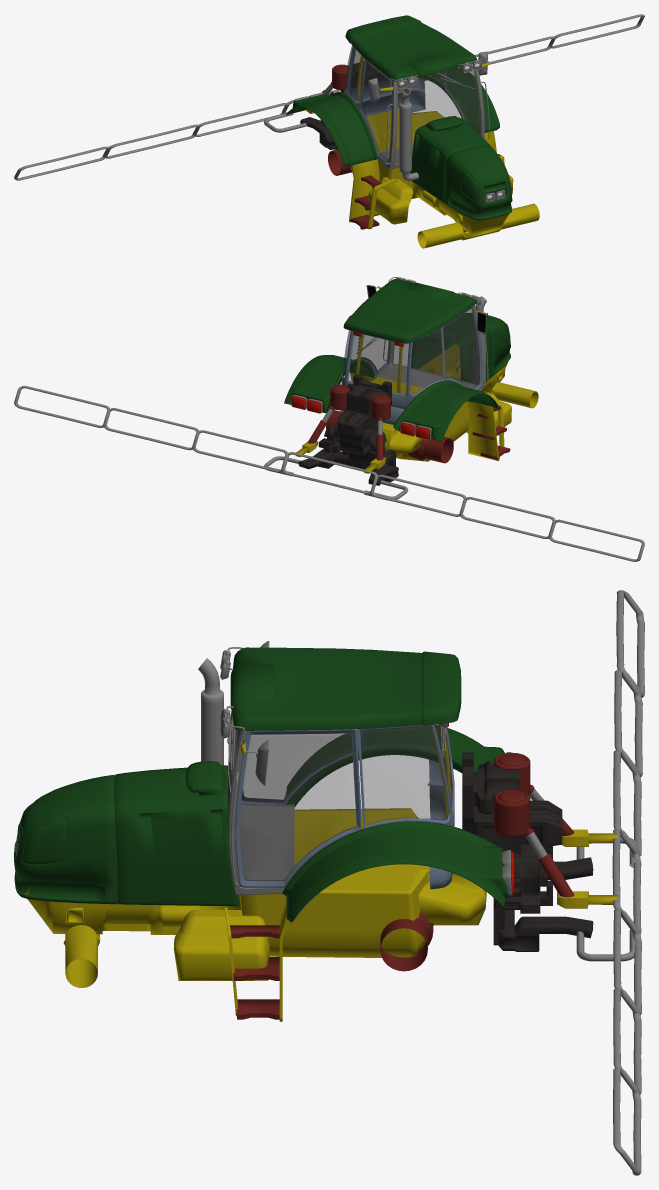
The model's file is tr_bes_krila.obj.
The picture shows the model from 3 angles, top to bottom: view 1: azimuth 30°, elevation 25°; view 2: azimuth 150°, elevation 25°; view 3: azimuth 270°, elevation 25°; orthographic projection. The views are drawn at different scales.
Visible parts, largest first — view 1: subD_3, subD_4, subD_2, subD_1, subD_7, subD_5, subD.001, subD.001_subD.006, subD.001_subD.005, subD.001_subD.003, subD.001_subD.004, subD.001_subD.002; view 2: subD_3, subD_4, subD_2, subD_5, subD_1, subD.001, subD.001_subD.006, subD.001_subD.002, subD.001_subD.003, subD.001_subD.000, subD.001_subD.005, subD.001_subD.001 (+2 smaller); view 3: subD_3, subD_2, subD_4, subD_5, subD_1, subD_7, subD.001_subD.003, subD.001, subD.001_subD.001, subD.001_subD.005, subD.001_subD.006, subD.001_subD.004 (+2 smaller).
Boxes of the visible parts, x1,y1,x2,y2 form: subD_3: [286, 15, 512, 220]; subD_4: [293, 45, 505, 201]; subD_2: [305, 55, 539, 248]; subD_1: [322, 64, 501, 229]; subD_7: [399, 73, 437, 180]; subD_5: [300, 62, 389, 149]; subD.001: [264, 57, 489, 164]; subD.001_subD.006: [14, 146, 109, 180]; subD.001_subD.005: [104, 124, 199, 158]; subD.001_subD.003: [551, 14, 644, 48]; subD.001_subD.004: [194, 103, 289, 136]; subD.001_subD.002: [460, 36, 555, 68]; subD_3: [284, 279, 510, 441]; subD_4: [291, 277, 486, 440]; subD_2: [295, 287, 538, 473]; subD_5: [298, 374, 398, 485]; subD_1: [307, 384, 510, 463]; subD.001: [264, 277, 488, 500]; subD.001_subD.006: [548, 519, 644, 561]; subD.001_subD.002: [103, 408, 199, 450]; subD.001_subD.003: [14, 385, 109, 427]; subD.001_subD.000: [282, 452, 377, 494]; subD.001_subD.005: [459, 497, 555, 538]; subD.001_subD.001: [192, 430, 287, 472]; subD_3: [14, 647, 507, 922]; subD_2: [24, 724, 618, 1021]; subD_4: [15, 641, 514, 895]; subD_5: [462, 752, 593, 951]; subD_1: [230, 752, 574, 1019]; subD_7: [198, 658, 223, 765]; subD.001_subD.003: [613, 1067, 641, 1175]; subD.001: [224, 647, 636, 961]; subD.001_subD.001: [613, 908, 641, 1014]; subD.001_subD.005: [614, 670, 642, 777]; subD.001_subD.006: [616, 590, 644, 697]; subD.001_subD.004: [613, 750, 641, 856].
Size of the model in its own units: 4.77 by 1.07 by 2.25.
